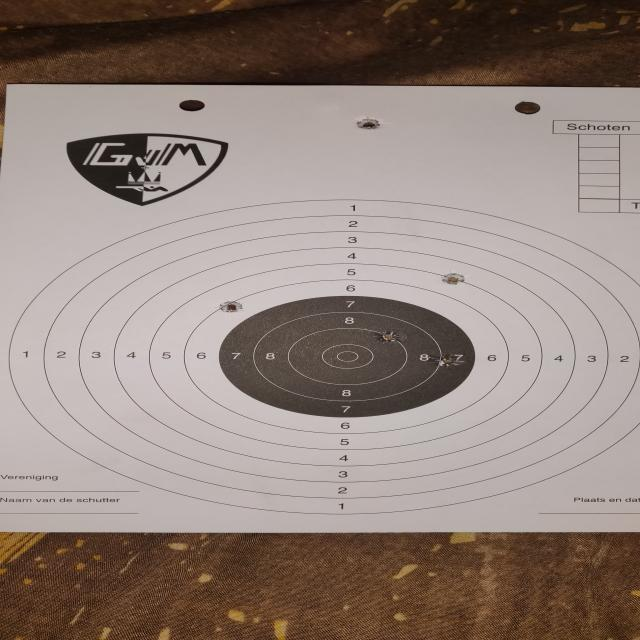0: (353, 118, 383, 130)
5: (439, 271, 473, 287)
6: (218, 301, 243, 312)
8: (432, 354, 462, 370)
9: (378, 331, 403, 344)
Target: (4, 196, 640, 516)
black_contour: (219, 294, 474, 418)
